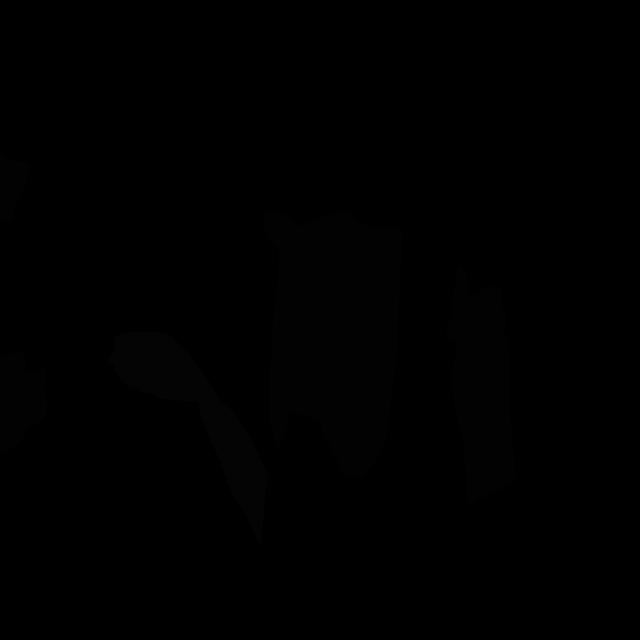cardboard: (263, 210, 403, 479), (446, 266, 516, 507), (0, 349, 47, 457), (0, 149, 28, 223)
soft_plastic: (107, 332, 269, 548)
